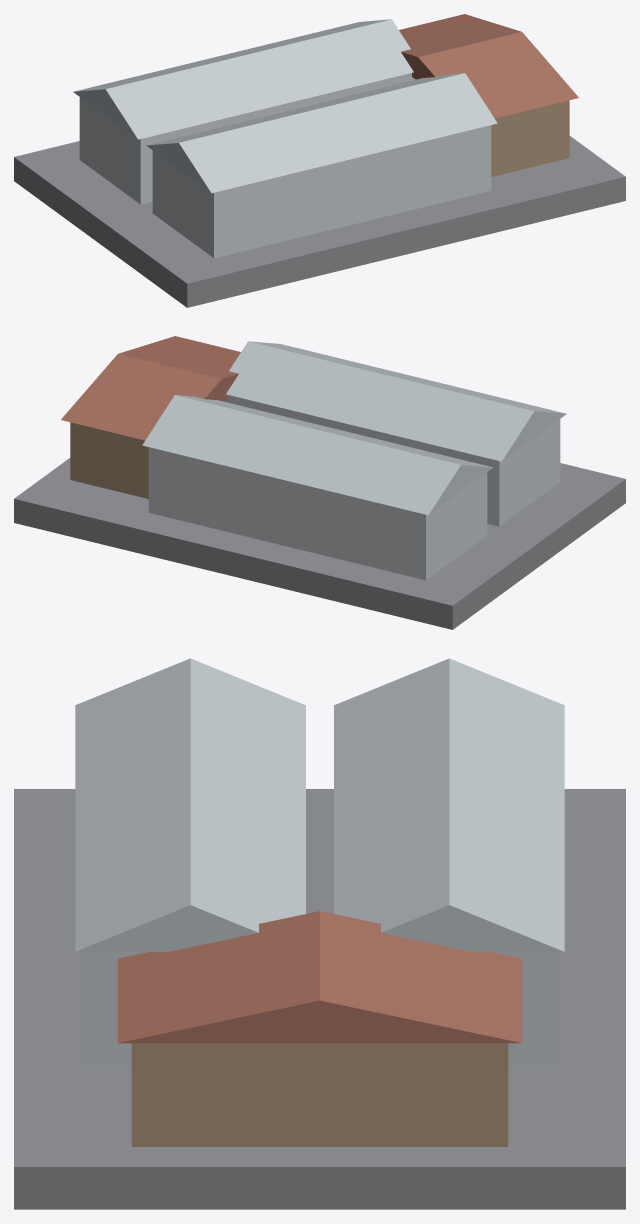
File: lm_123_nha_long_phoi_hong_gio_hoshigaki_va_vuon_hong_co_trai_mat_xuan_tho.glb
The picture shows the model from 3 angles, top to bottom: view 1: azimuth 30°, elevation 25°; view 2: azimuth 150°, elevation 25°; view 3: azimuth 270°, elevation 25°; orthographic projection. The views are drawn at different scales.
Visible parts, largest first — view 1: lm_123; view 2: lm_123; view 3: lm_123.
Part boxes in pixels (x1=…): lm_123: x1=14, y1=14, x2=625, y2=307; lm_123: x1=14, y1=336, x2=625, y2=629; lm_123: x1=14, y1=658, x2=625, y2=1209.
Bounding box in the file's own units: 38 × 9.8 × 26.
